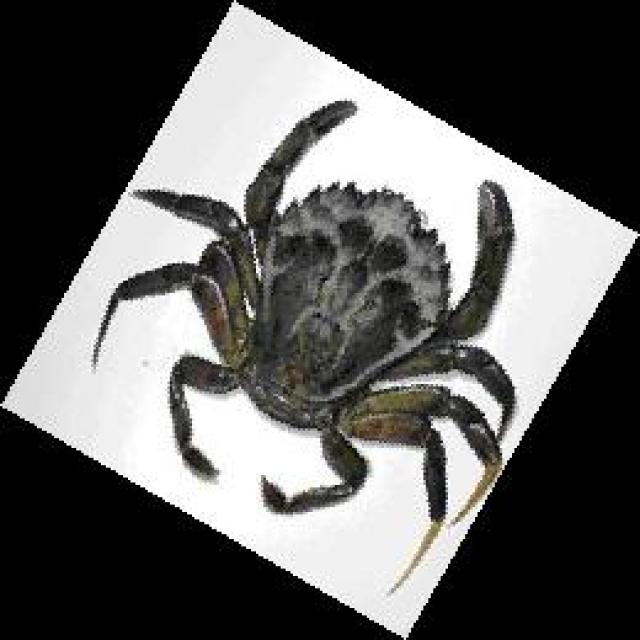European Green crab: (94, 101, 514, 591)
